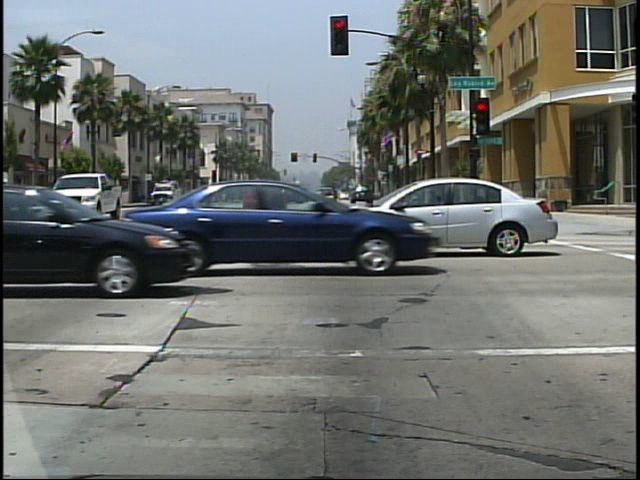person: (3, 172, 18, 228)
